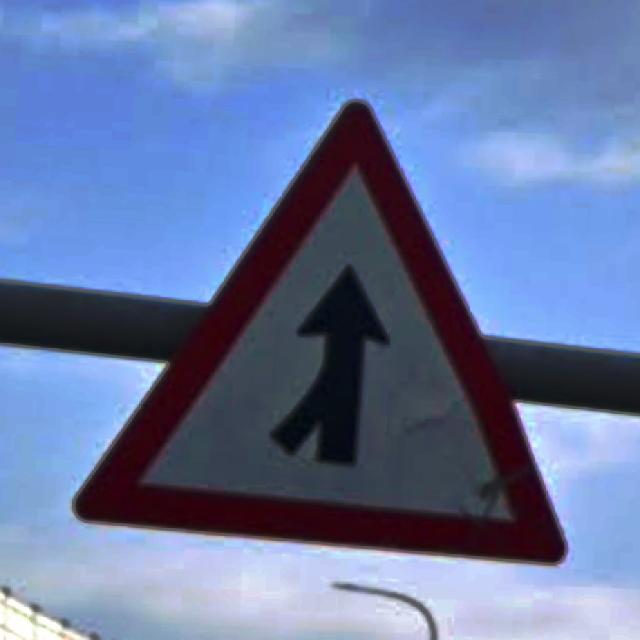leftmerge: (70, 96, 568, 564)
